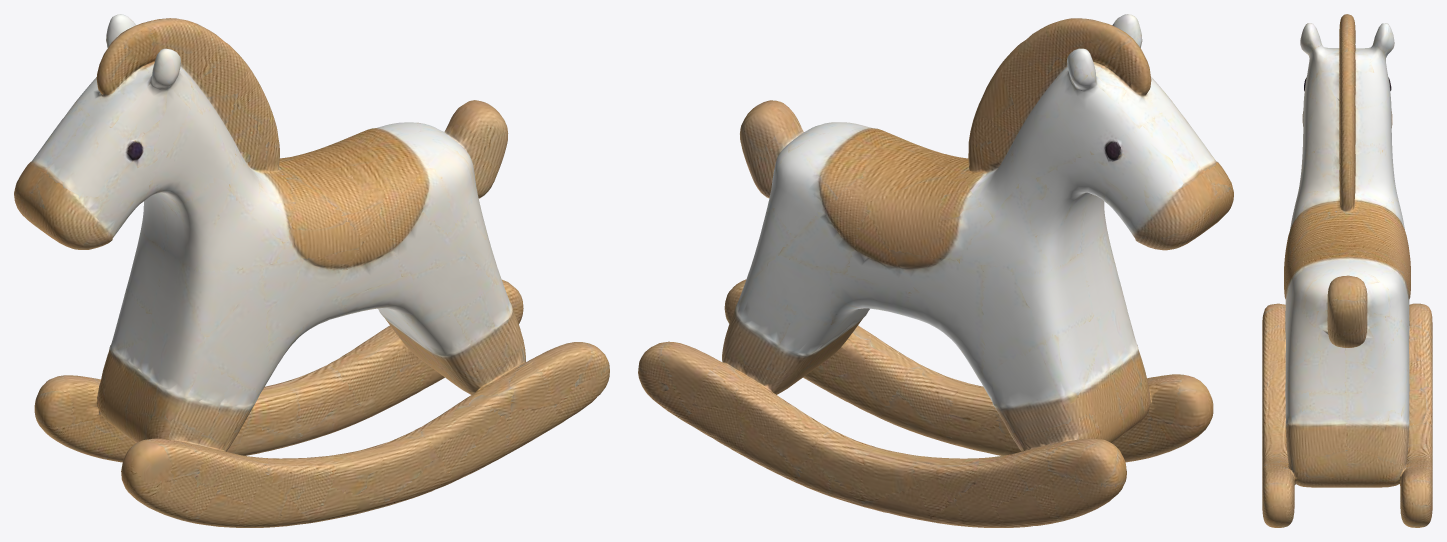
3 renders of one model, left to right at view 1: azimuth 30°, elevation 25°; view 2: azimuth 150°, elevation 25°; view 3: azimuth 270°, elevation 25°, orthographic. The views are drawn at different scales.
Size of the model in its own units: 1.9 by 1.69 by 0.6549.
1 material, 1 textured.
